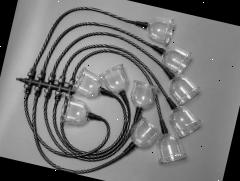lightbulb: (70, 53, 132, 104), (166, 103, 204, 140), (153, 130, 190, 166), (166, 72, 202, 108), (96, 58, 132, 94), (128, 114, 163, 150), (71, 64, 105, 98), (158, 43, 192, 76), (59, 94, 92, 127), (144, 12, 176, 44), (128, 79, 159, 110)
